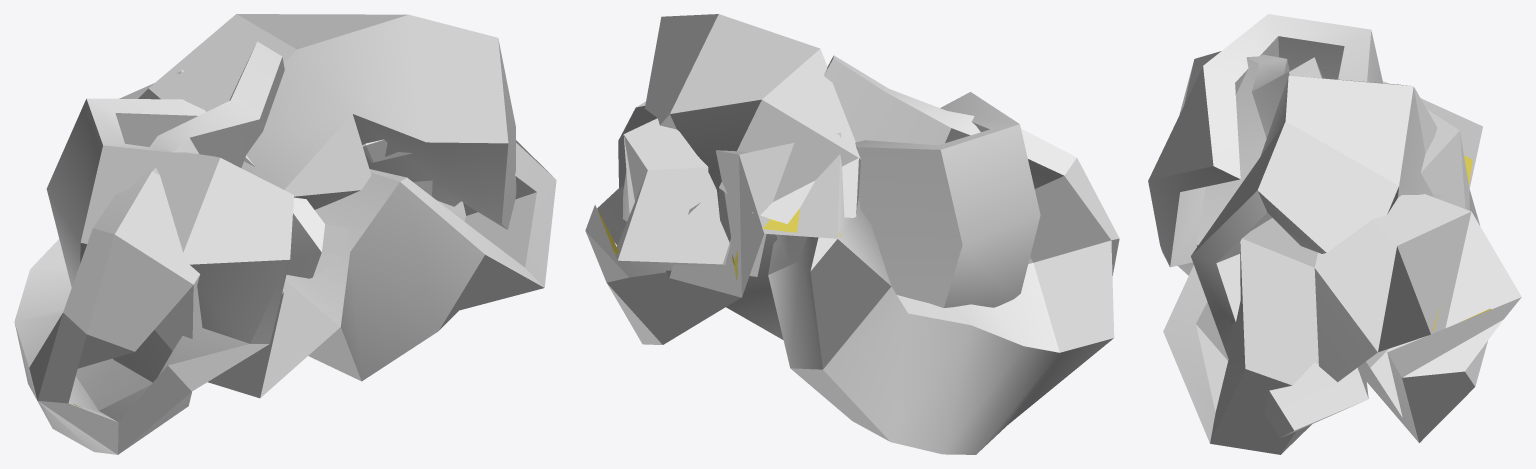
File: sticky_note_2.fbx
3 renders of one model, left to right at view 1: azimuth 30°, elevation 25°; view 2: azimuth 150°, elevation 25°; view 3: azimuth 270°, elevation 25°, orthographic. The views are drawn at different scales.
Parts seen in each view (by area): view 1: Plane.004; view 2: Plane.004; view 3: Plane.004.
Part boxes in pixels (x1,y1,x2,y2): Plane.004: [14, 14, 556, 454]; Plane.004: [585, 14, 1119, 454]; Plane.004: [1148, 14, 1521, 454].
Bounding box in the file's own units: 0.338 × 0.2239 × 0.2042.
2 materials, 1 textured.
